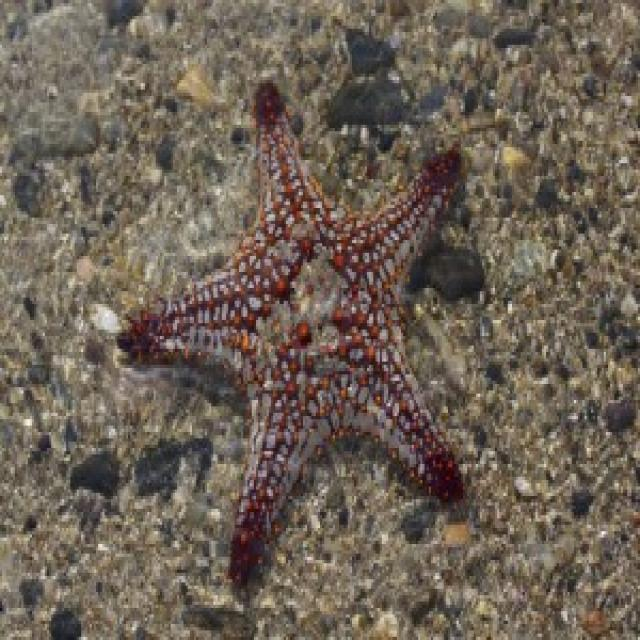Starfish: (117, 46, 474, 586)
